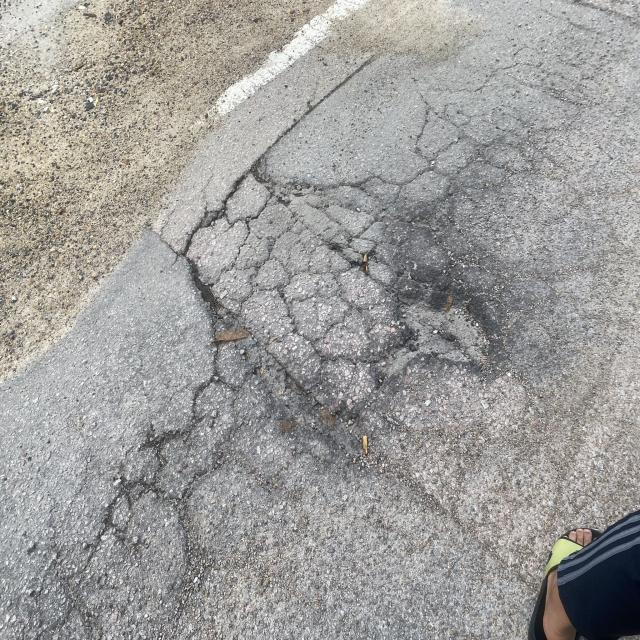pothole: (166, 139, 522, 468)
